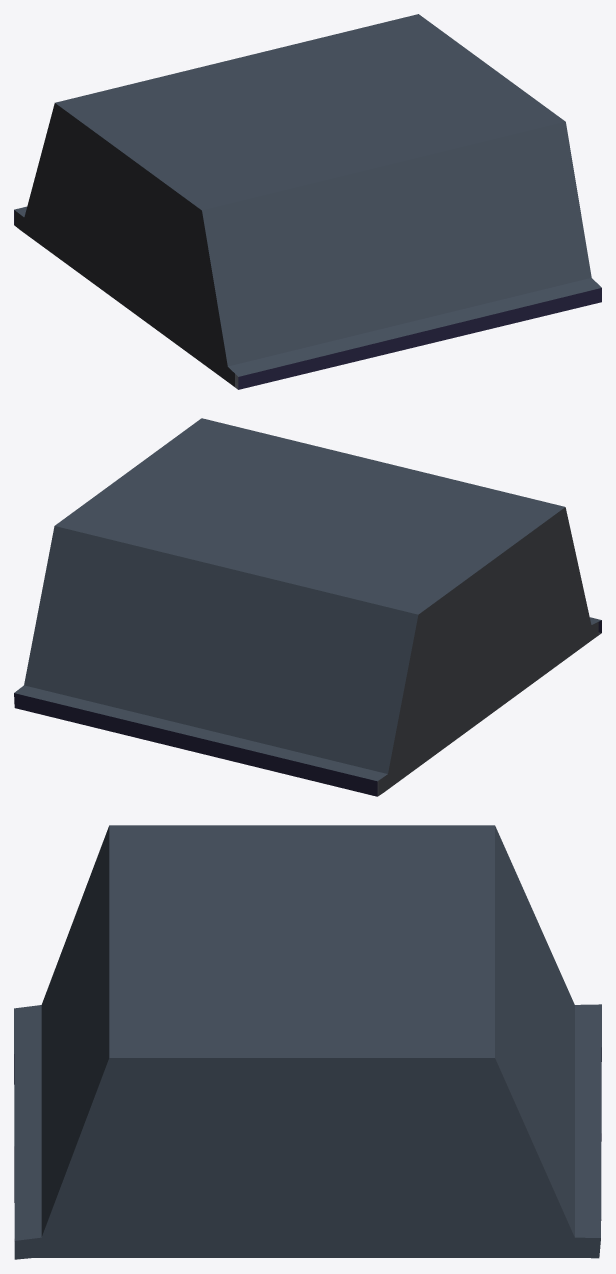
Rendered from Roof_Single_MID.fbx.
3 views of the same model, one above another, from view 1: azimuth 30°, elevation 25°; view 2: azimuth 150°, elevation 25°; view 3: azimuth 270°, elevation 25° (orthographic). The views are drawn at different scales.
Visible parts, largest first — view 1: Cube; view 2: Cube; view 3: Cube.
Part boxes in pixels (x1,y1,x2,y2): Cube: [14, 14, 601, 389]; Cube: [14, 418, 601, 796]; Cube: [14, 825, 601, 1259].
Bounding box in the file's own units: 499 × 202 × 533.
